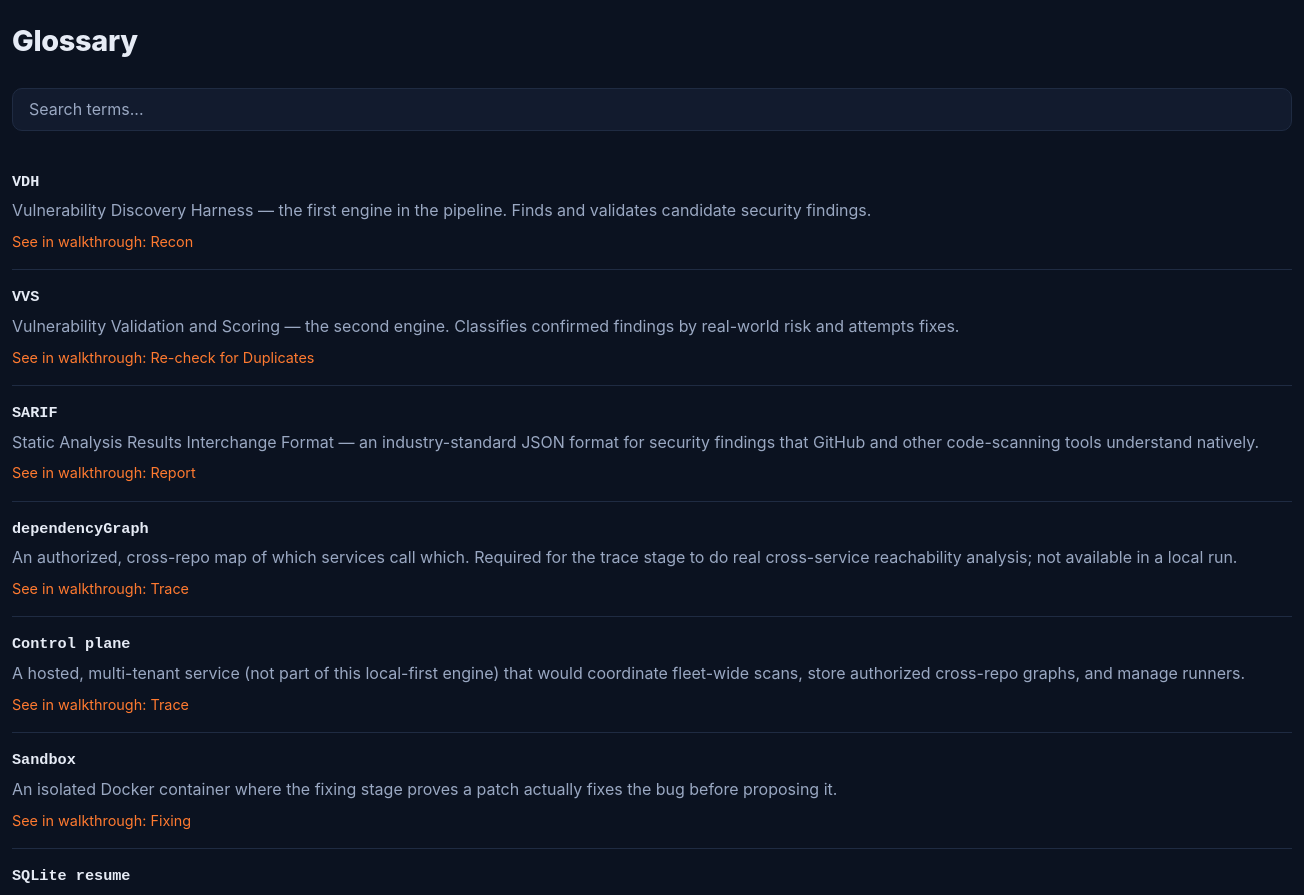
Scenario: Glossary › filters terms by search input
This screenshot has width=1304, height=895.
Type "VDH" into the search field named "search glossary" at (652, 109), box [12,88,1292,131]
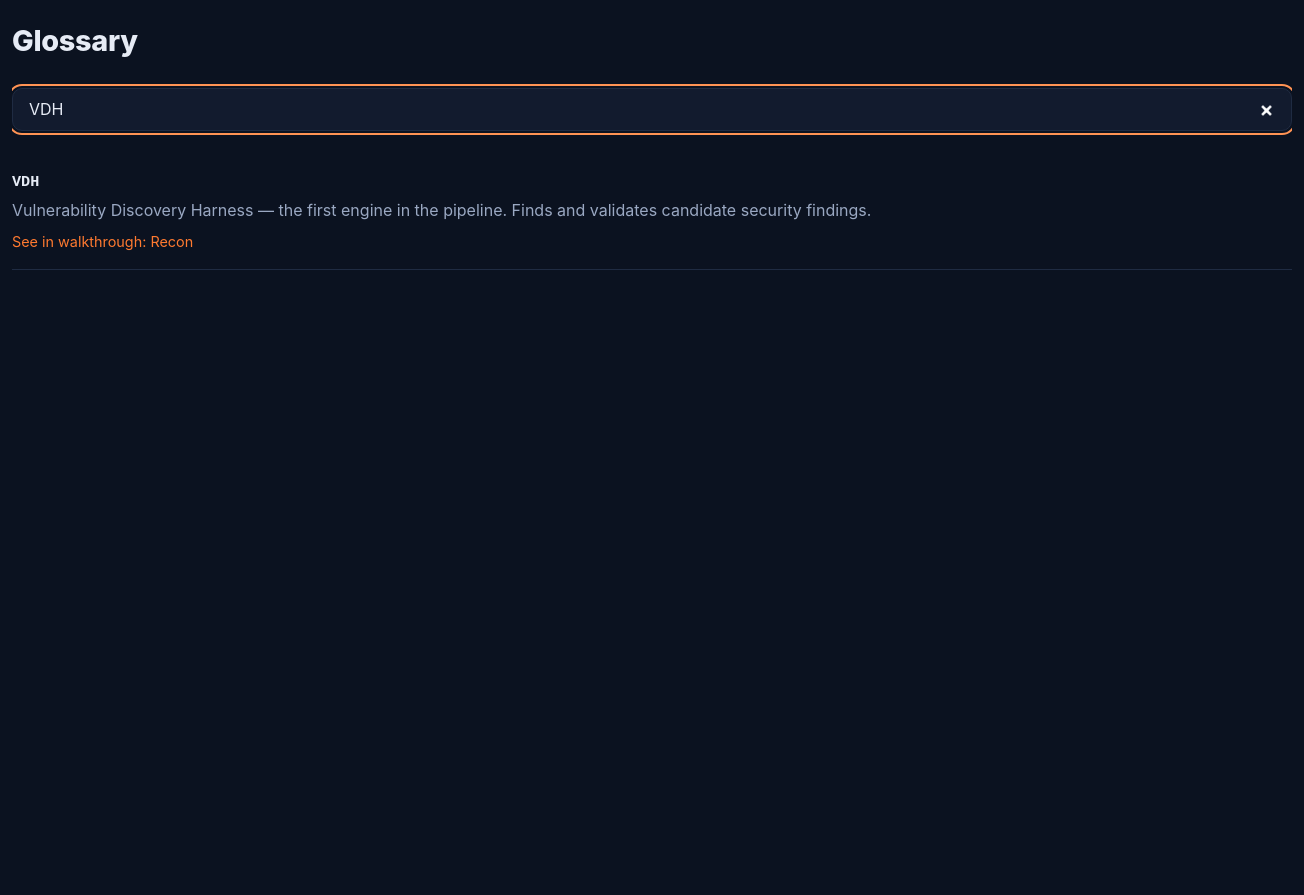
Expected: the text "VDH" is shown, [12,173,39,191]
Now the text "VVS" is gone
